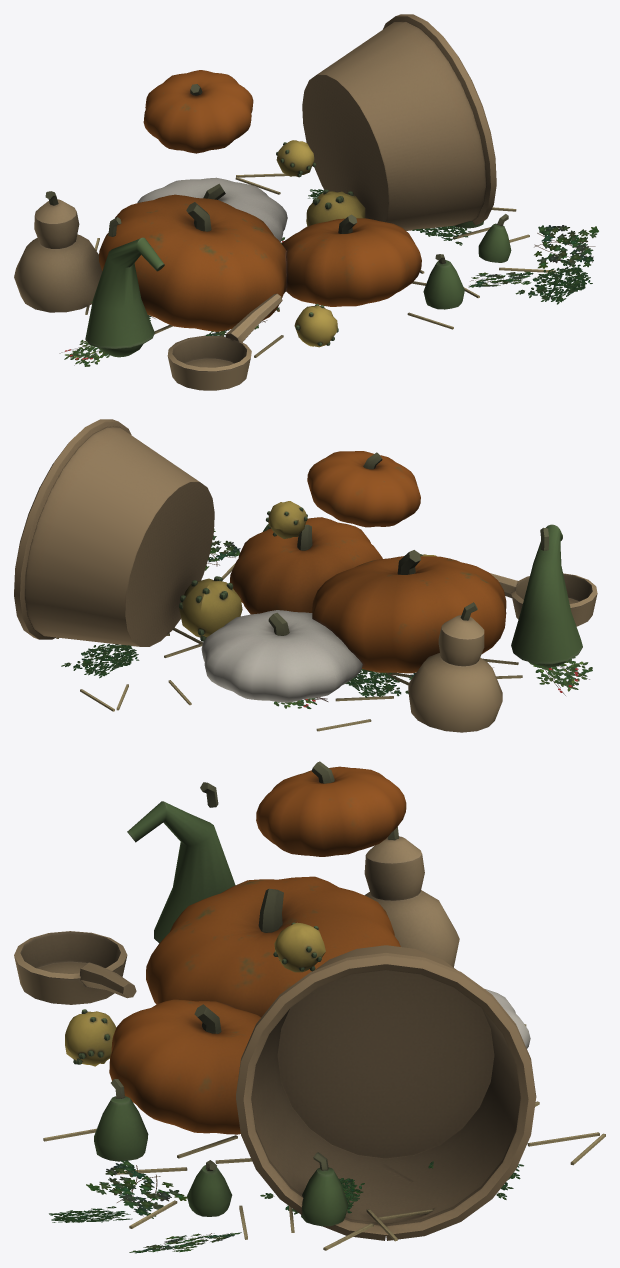
The model's file is GourdPile.fbx.
3 renders of one model, top to bottom at view 1: azimuth 30°, elevation 25°; view 2: azimuth 150°, elevation 25°; view 3: azimuth 270°, elevation 25°, orthographic. The views are drawn at different scales.
Visible parts, largest first — view 1: GourdPile_Main, GourdPile_Leaves; view 2: GourdPile_Main, GourdPile_Leaves; view 3: GourdPile_Main, GourdPile_Leaves.
Part boxes in pixels (x1,y1,x2,y2): GourdPile_Main: [14, 14, 555, 390]; GourdPile_Leaves: [59, 189, 598, 366]; GourdPile_Main: [14, 419, 597, 732]; GourdPile_Leaves: [61, 528, 592, 708]; GourdPile_Main: [14, 761, 605, 1250]; GourdPile_Leaves: [49, 1160, 523, 1253].
Bounding box in the file's own units: 644 × 260 × 469.
